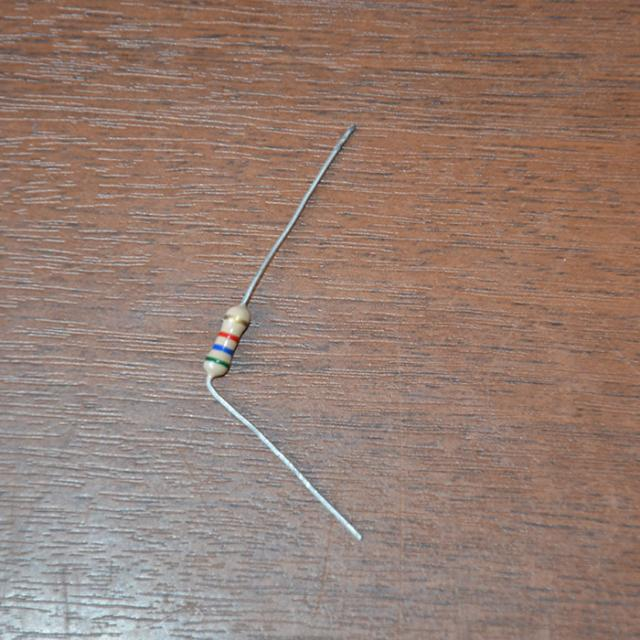blue: (212, 343, 232, 354)
gold: (225, 315, 248, 325)
green: (207, 356, 229, 367)
red: (219, 330, 239, 341)
resistor: (197, 301, 258, 385)
